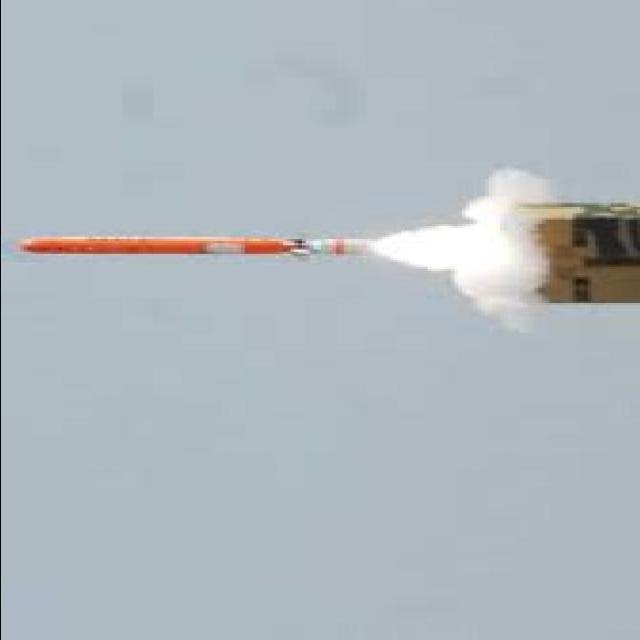missile: (22, 230, 407, 270)
